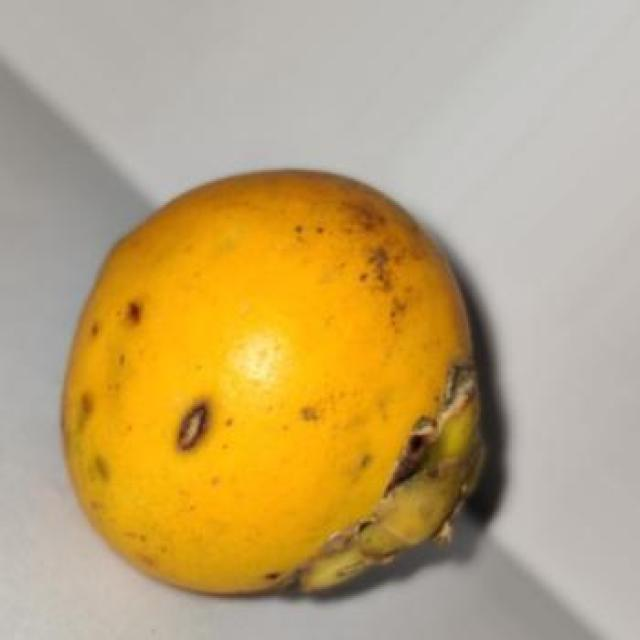good: (60, 170, 490, 600)
